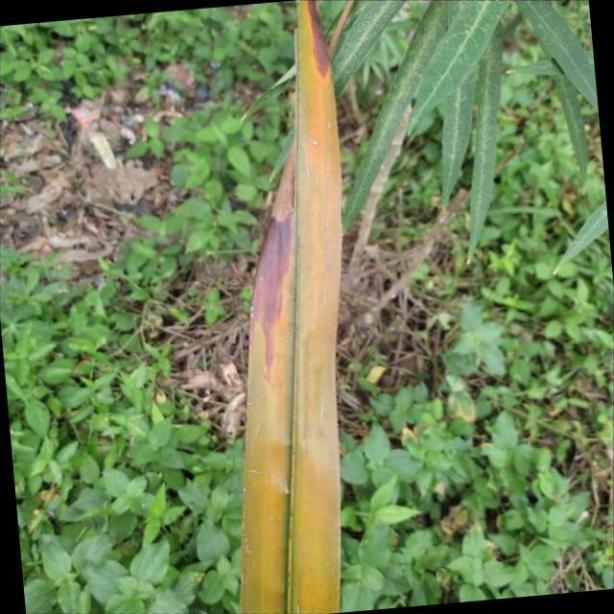Megnesium: (240, 0, 345, 614)
